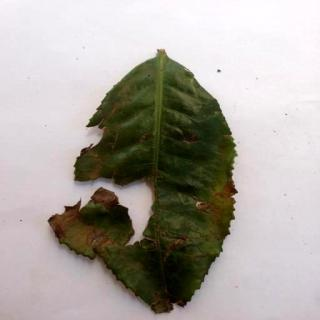Algal Leaf: (54, 48, 239, 316)
